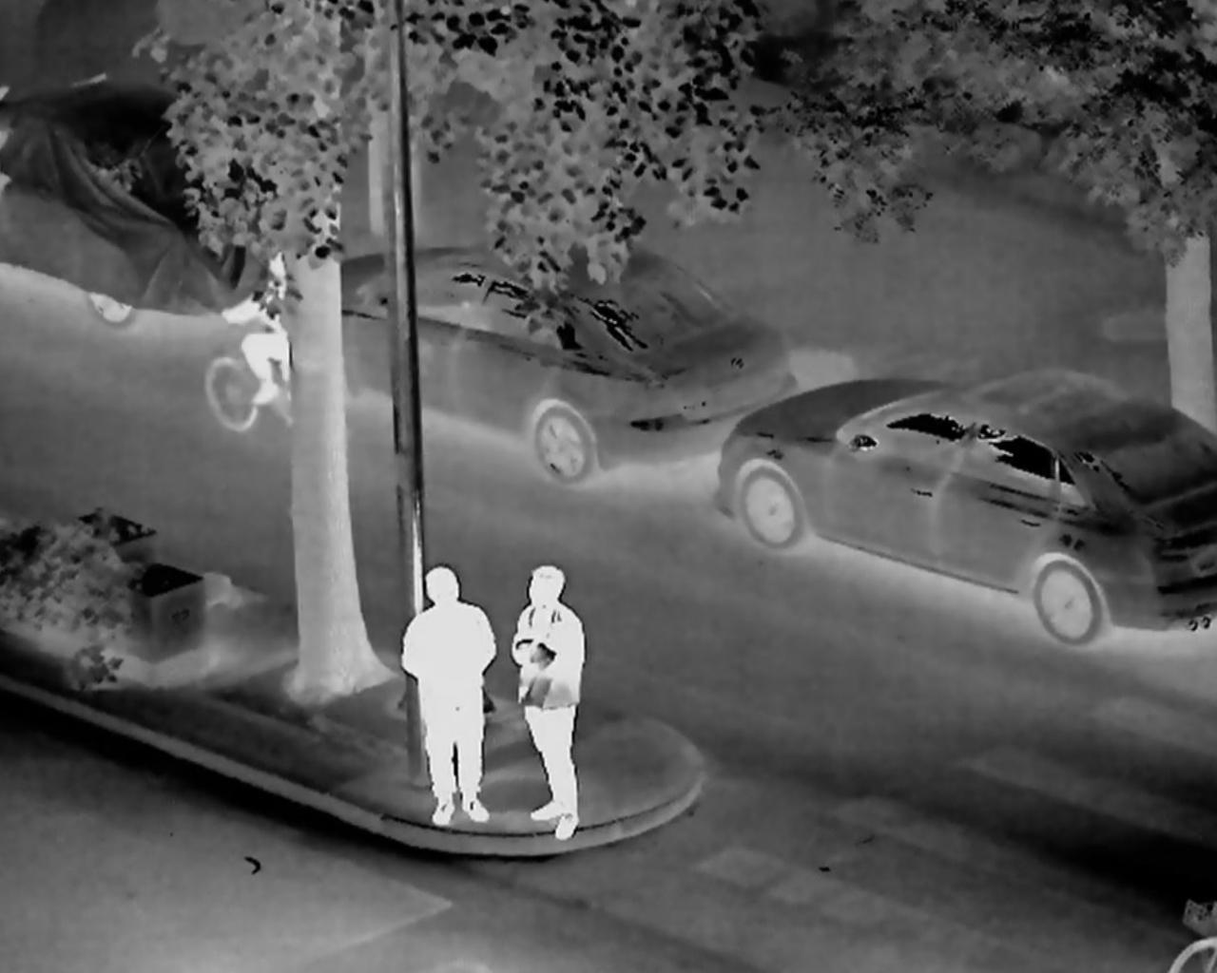person: (382, 552, 512, 841), (501, 553, 600, 844), (214, 242, 315, 424)
